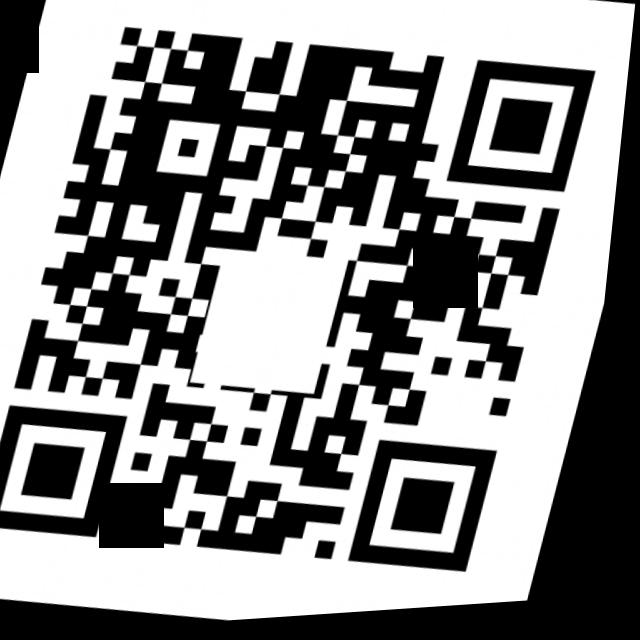QR_CODE: (0, 0, 624, 624)
